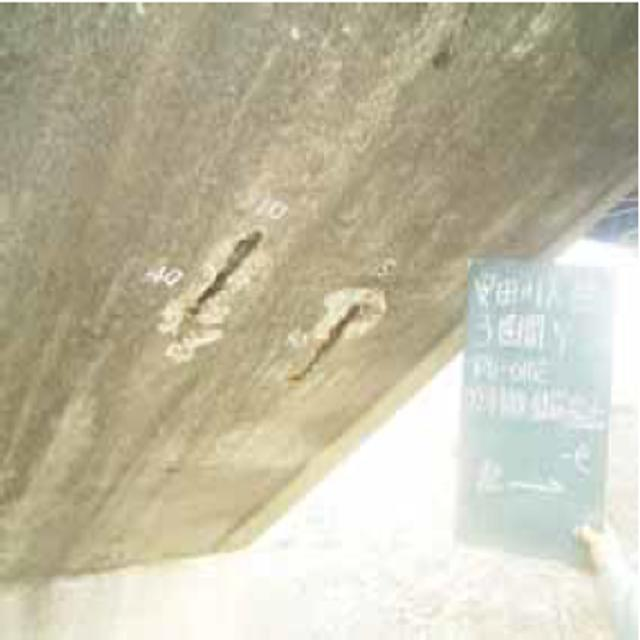spalling: (157, 233, 273, 360), (307, 273, 394, 363)
